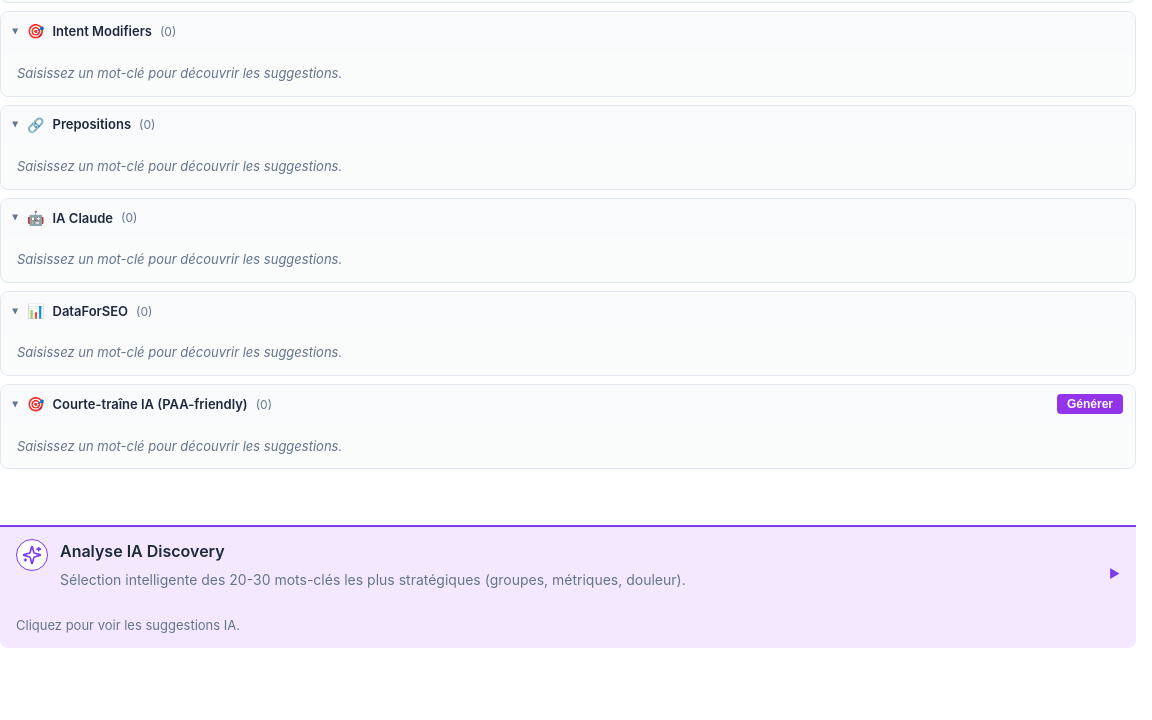
DiscoveryPanel — analyse IA › section analysis-results visible si analysisResult défini
The image size is (1152, 720).
(page scrolled)
Click the button with test id "ai-panel-toggle" at (568, 573), box 16,539 -> 1120,607
(page scrolled)
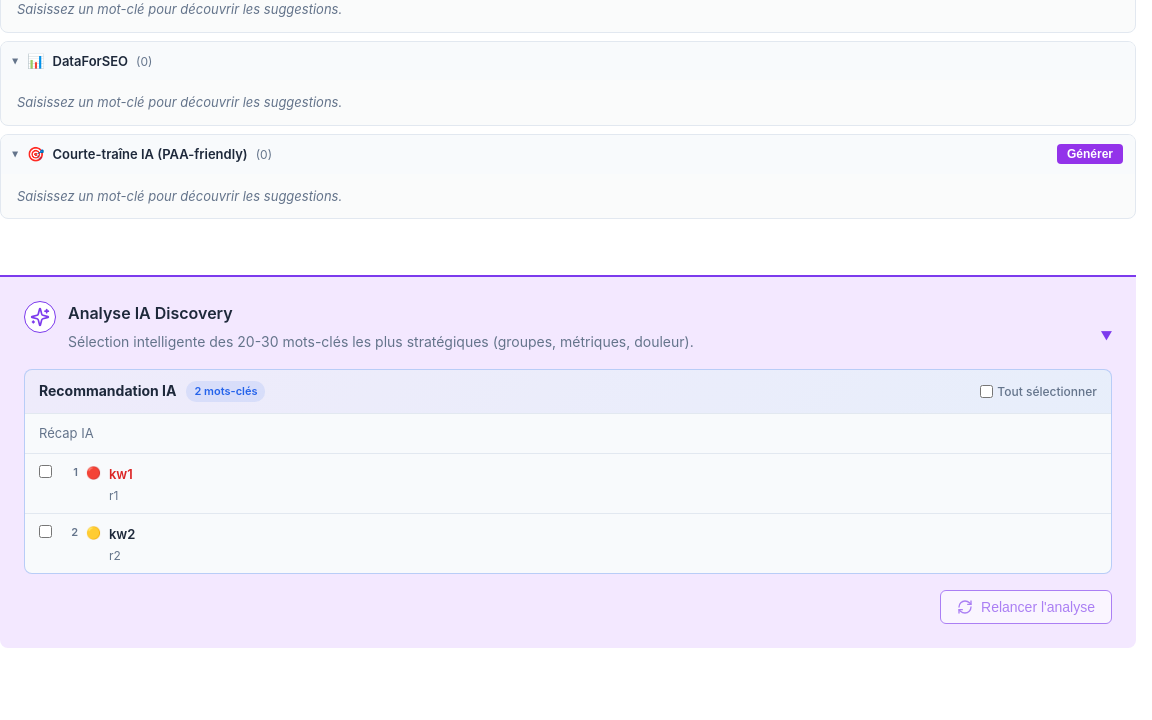
Result: the element with class "analysis-results" is shown at 24,369 -> 1112,574
Result: the number of list items with class "analysis-item" is 2 at 25,454 -> 1111,514; 39,525 -> 135,563
